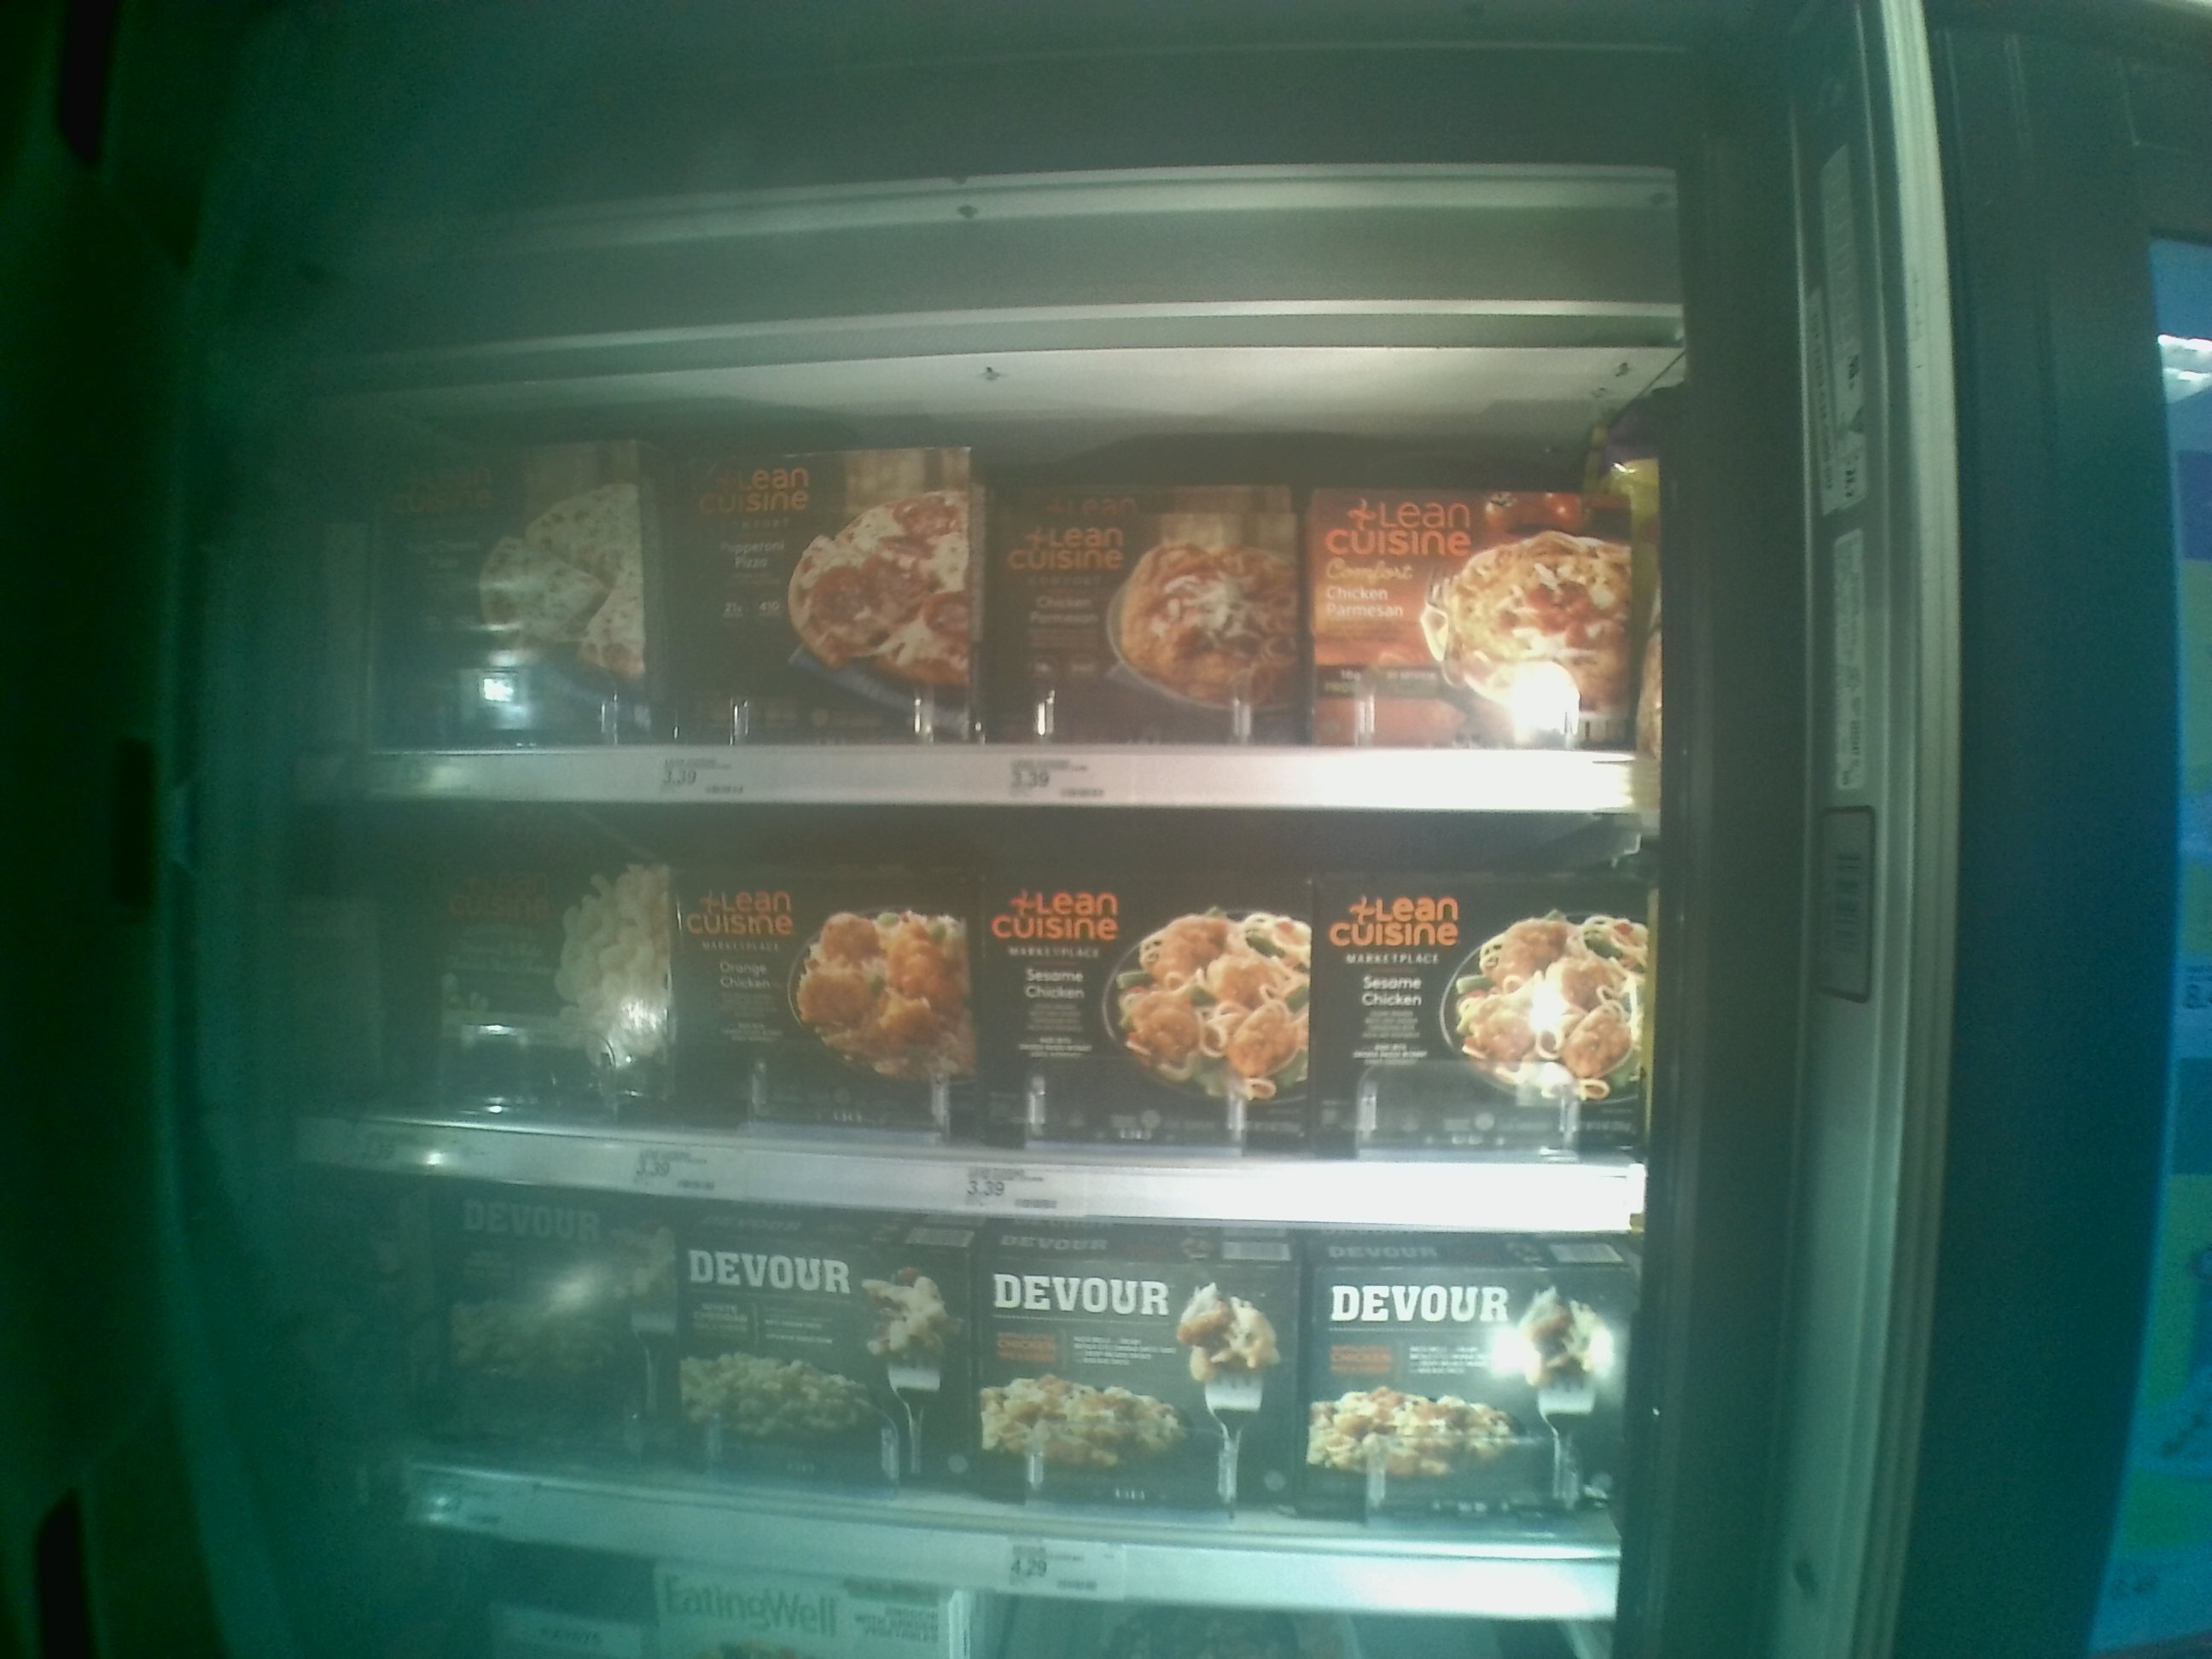shelf: (315, 1161, 1629, 1622), (329, 357, 1655, 814), (308, 788, 1655, 1230)
